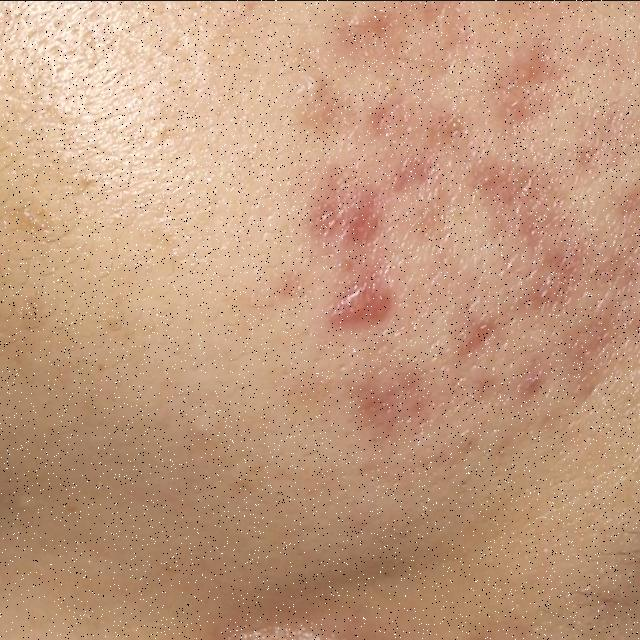nodules: (284, 170, 399, 256), (308, 264, 410, 340)
